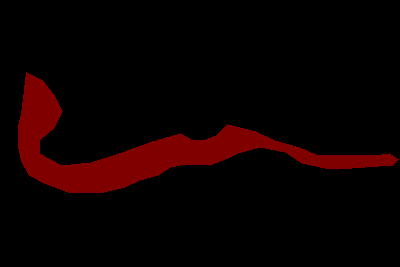fire: (18, 72, 398, 192)
